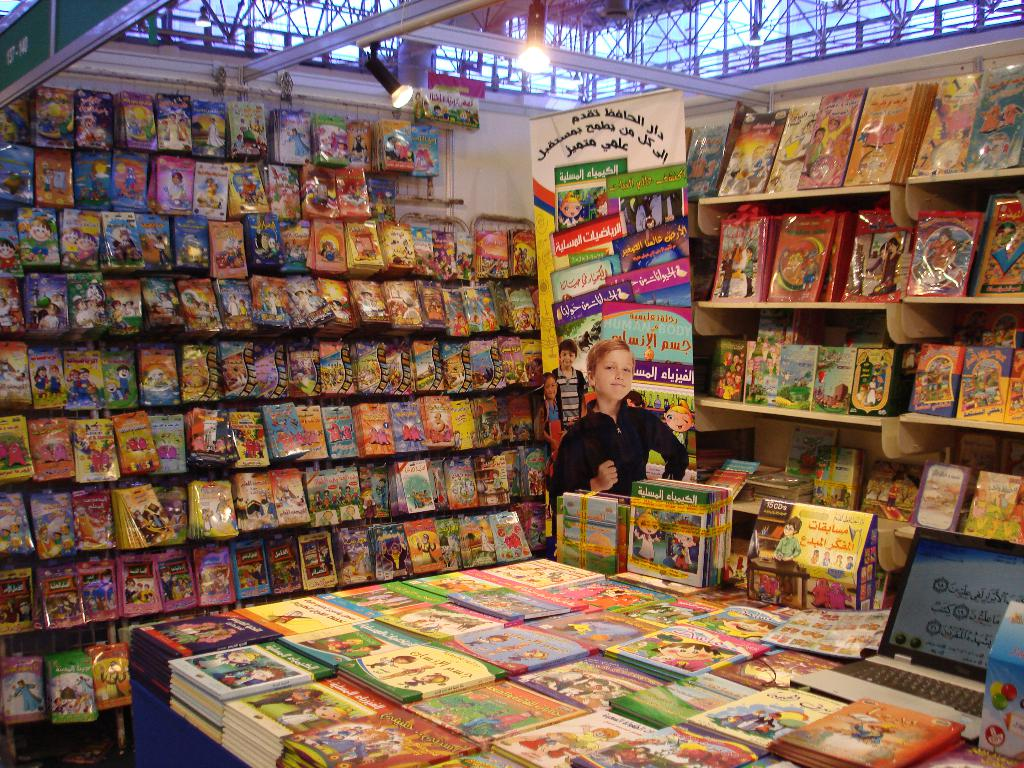Person: (549, 341, 689, 561)
